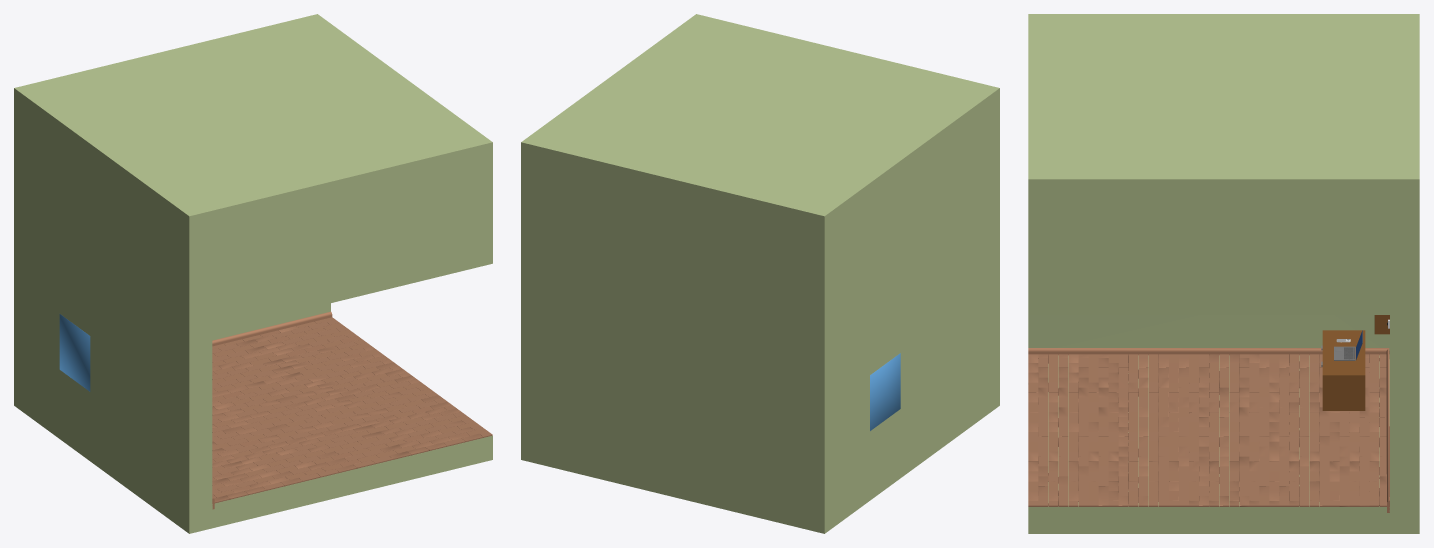
File: room_v10.glb
The picture shows the model from 3 angles, left to right: view 1: azimuth 30°, elevation 25°; view 2: azimuth 150°, elevation 25°; view 3: azimuth 270°, elevation 25°; orthographic projection. The views are drawn at different scales.
Parts seen in each view (by area): view 1: walls, floor_big, window, floor_trim; view 2: walls, window; view 3: walls, floor_big, desk_top, floor_trim.
Boxes of the visible parts, x1,y1,x2,y2 form: walls: (14, 14, 492, 533); floor_big: (212, 317, 492, 503); window: (59, 314, 90, 391); floor_trim: (212, 311, 332, 509); walls: (521, 14, 999, 533); window: (870, 353, 900, 430); walls: (1028, 14, 1419, 533); floor_big: (1028, 354, 1386, 506); desk_top: (1322, 330, 1365, 410); floor_trim: (1028, 348, 1389, 512).
Bounding box in the file's own units: 7.97 × 7.97 × 7.97.
